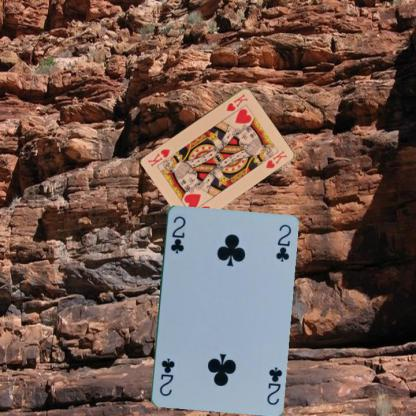2c: (264, 364, 283, 406), (168, 213, 186, 255)
Kh: (224, 91, 249, 112)
